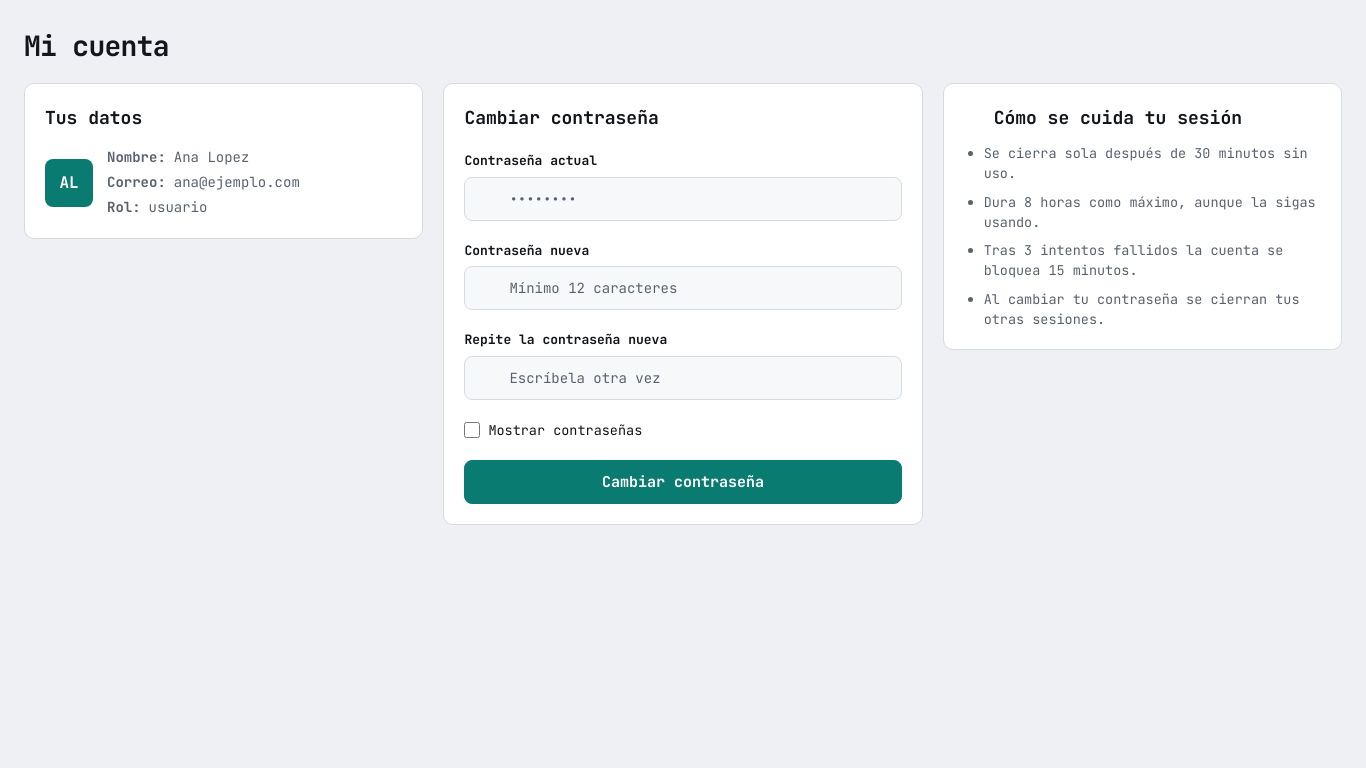
Scenario: PaginaMiCuenta › no envía si una-clave-nueva-1 / una-clave-nueva-1 / una-clave-nueva-1
Type "una-clave-nueva-1" into the password field labelled "Contraseña actual" at [683, 198], box [464, 176, 902, 220]
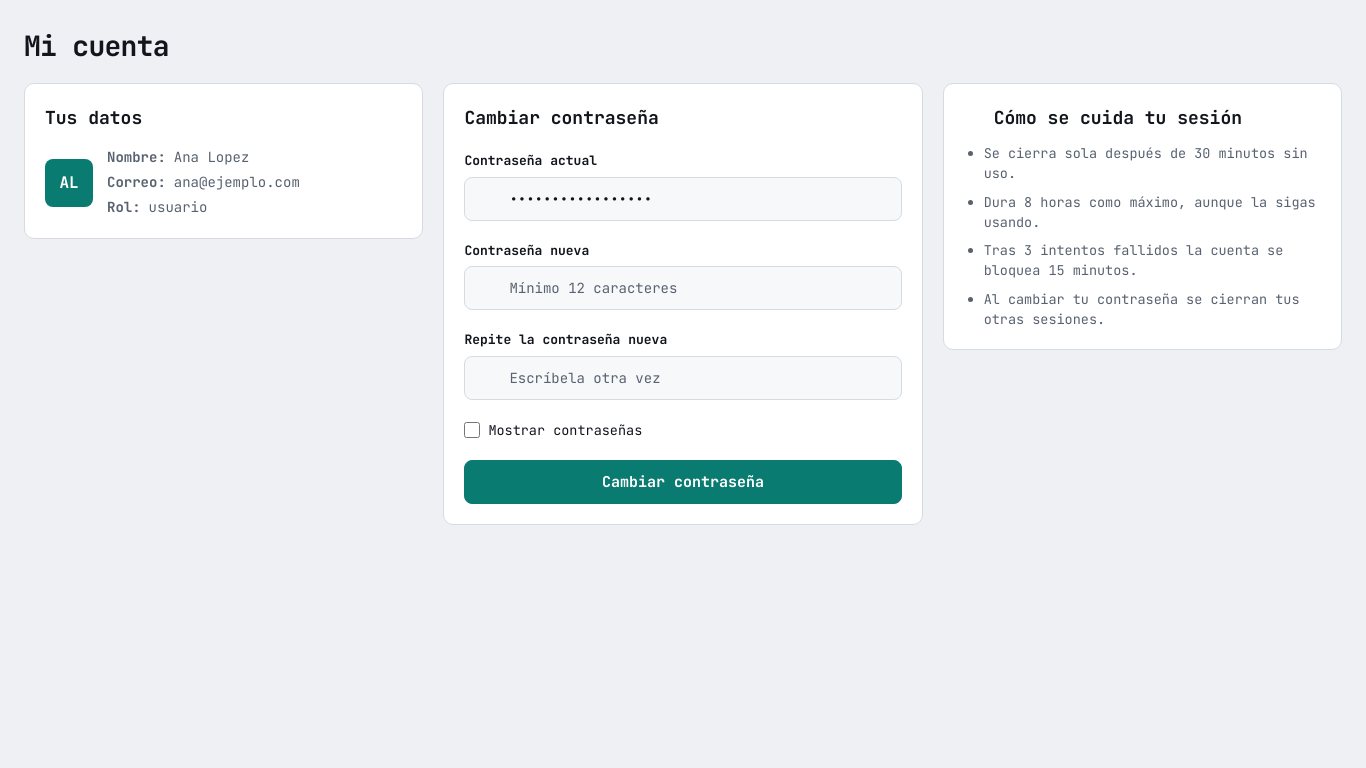
Type "una-clave-nueva-1" into the password field labelled "Contraseña nueva" at [683, 288], box [464, 266, 902, 310]
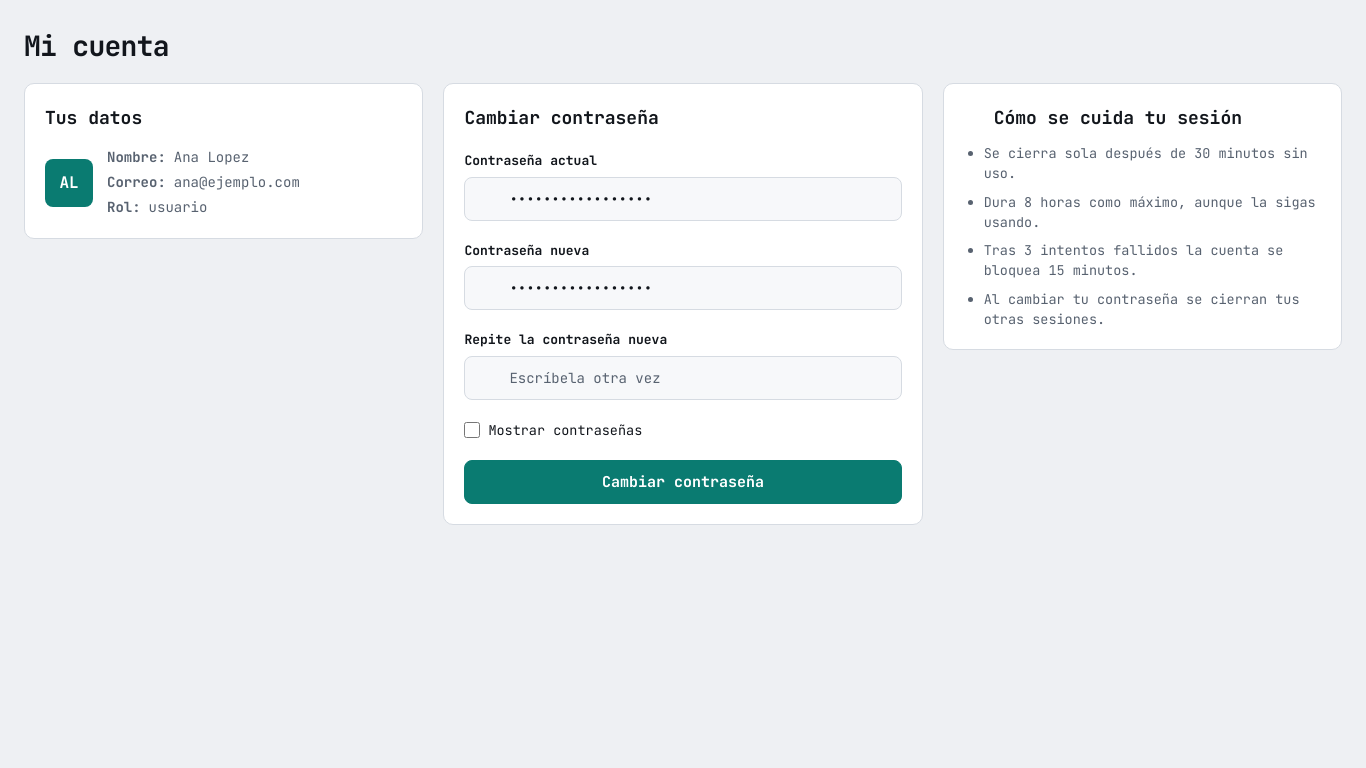
Type "una-clave-nueva-1" into the password field labelled "Repite la contraseña nueva" at [683, 378], box [464, 356, 902, 400]
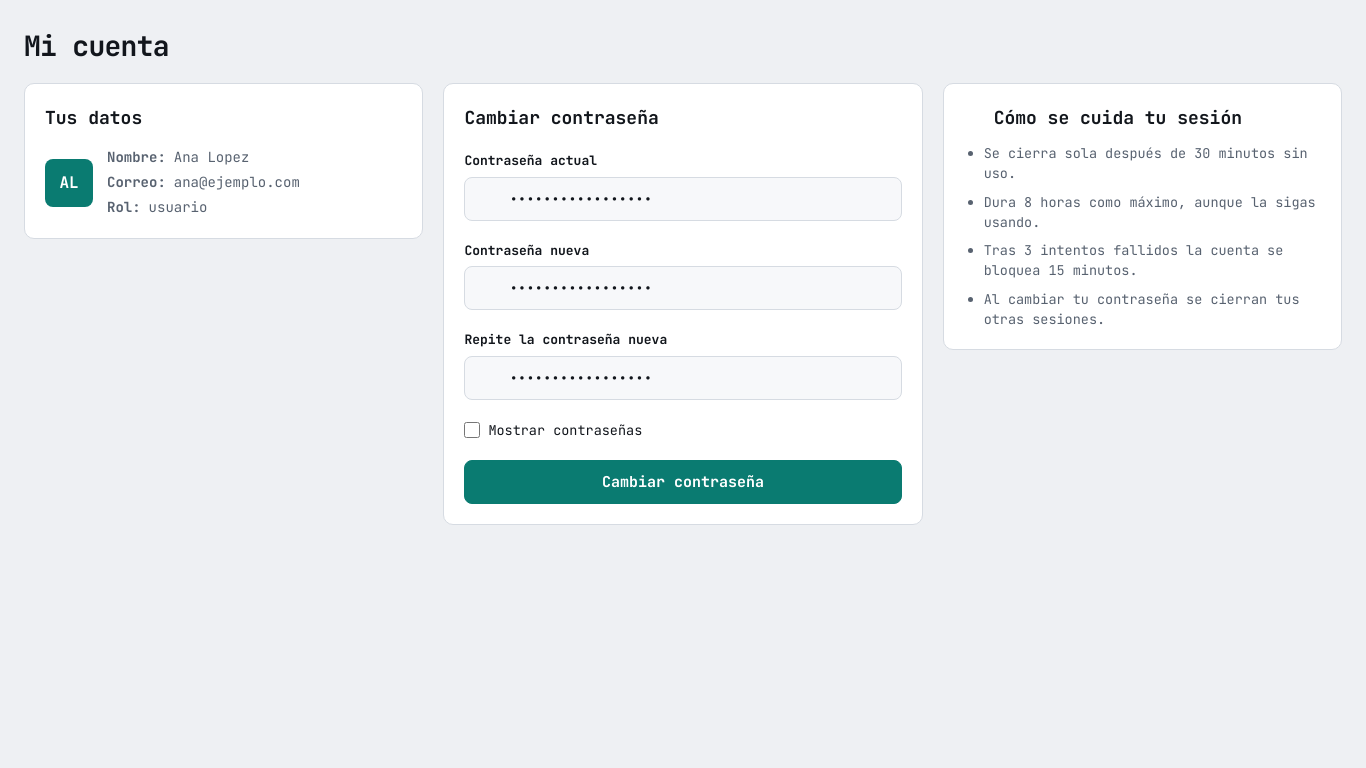
Click the button "Cambiar contraseña" at [683, 482], box [464, 460, 902, 504]
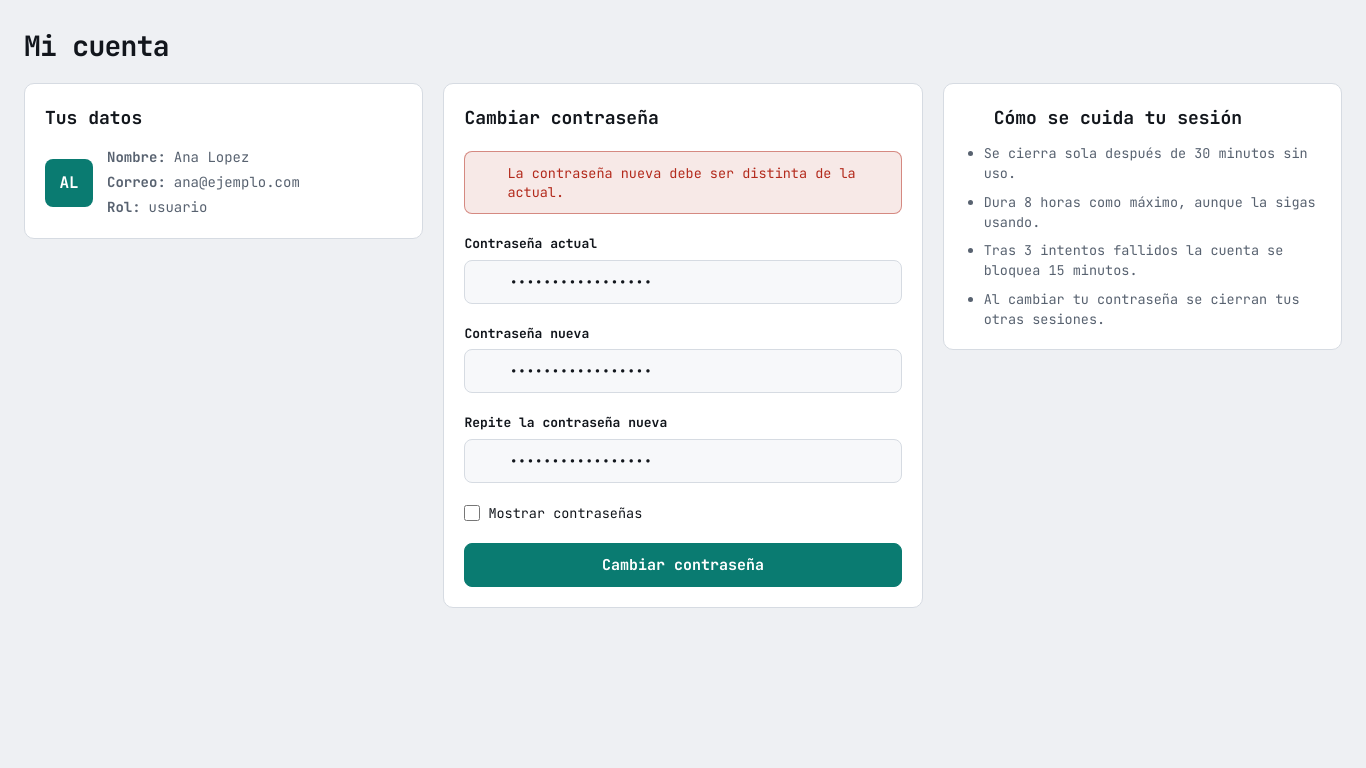
Expected: the message shows "distinta de la actual", [507, 164, 856, 201]
